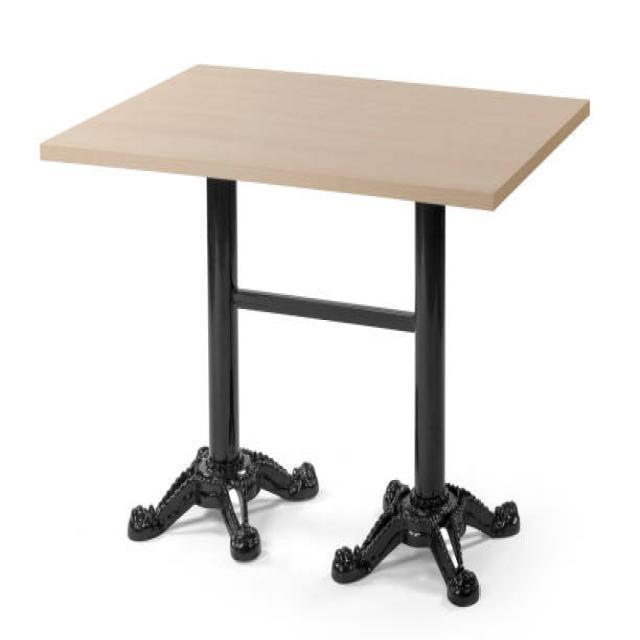table: (38, 59, 590, 606)
